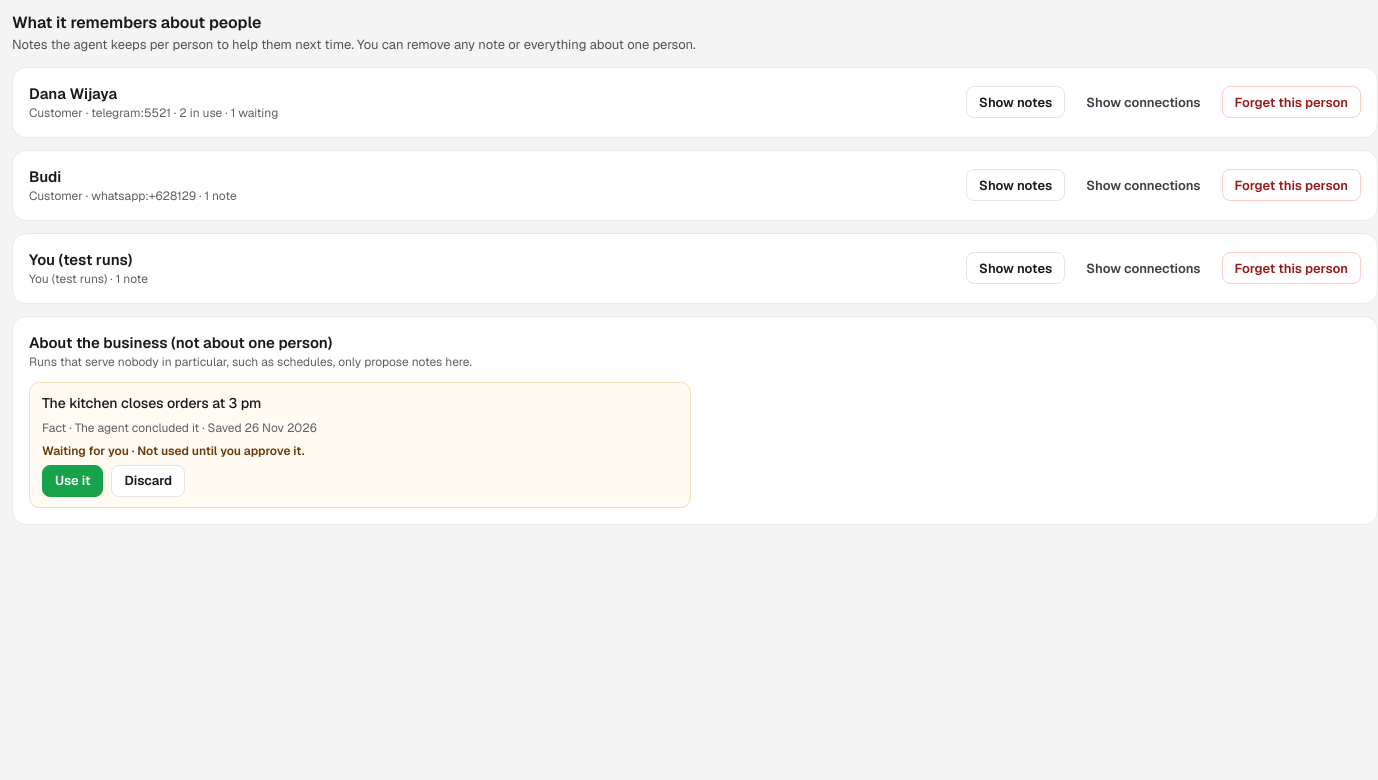
MemoryPanel connections › shows the connections of a person when the agent keeps a memory graph
This screenshot has width=1378, height=780.
Step 1. Click the button "Show connections" in the row of "Dana Wijaya" → click(1143, 102), box [1073,86,1214,118]
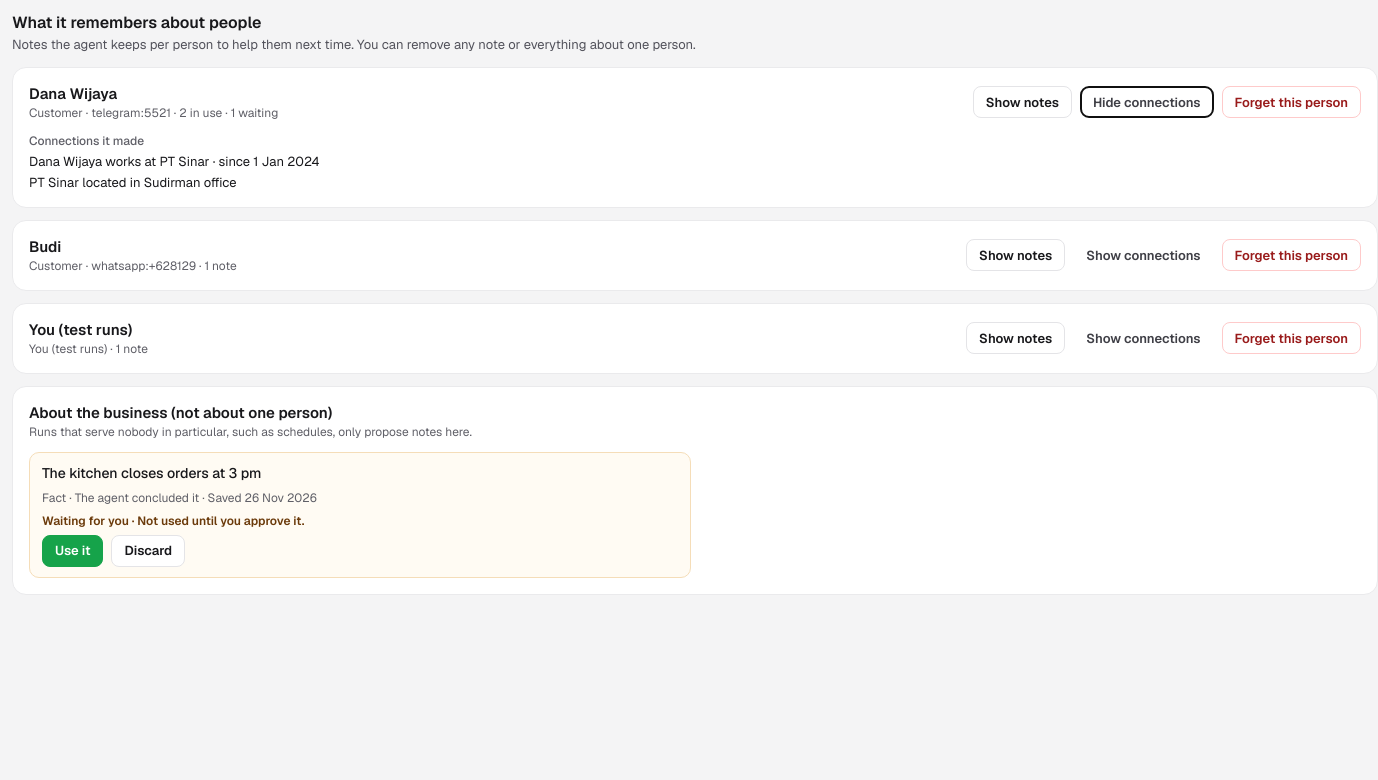
Expected: the list item "Dana Wijaya works at PT Sinar · since 1 Jan 2024" is shown, [29,152,320,170]
